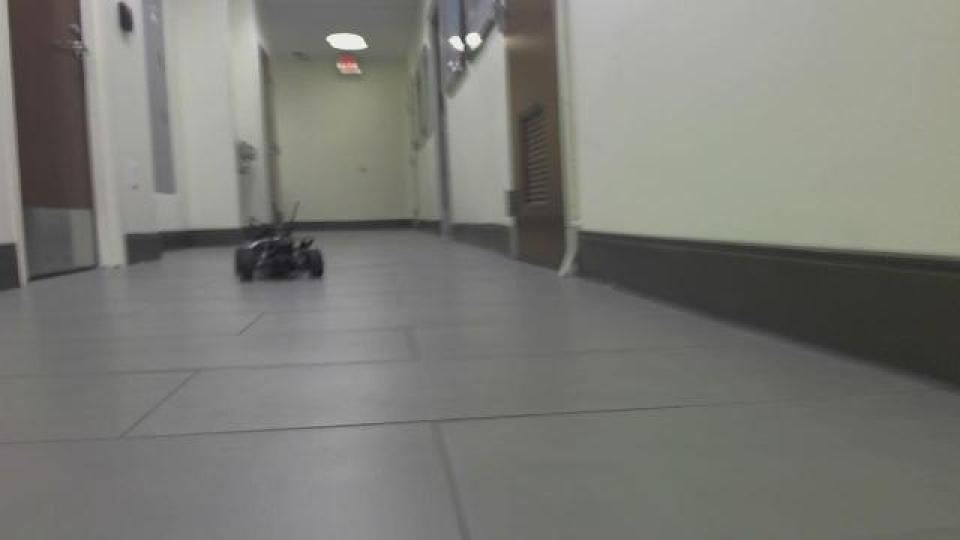car: (229, 199, 327, 285)
